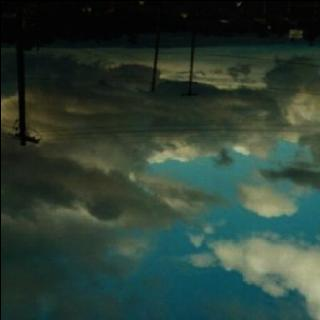Stratocumulus: (0, 51, 320, 320)
